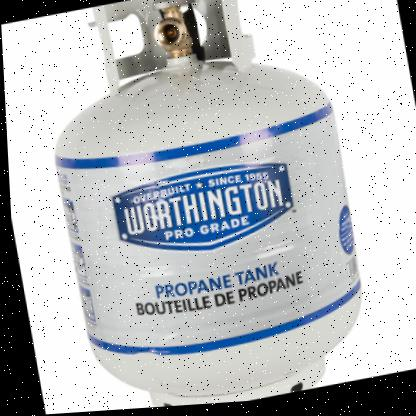gas-tank: (26, 0, 382, 414)
